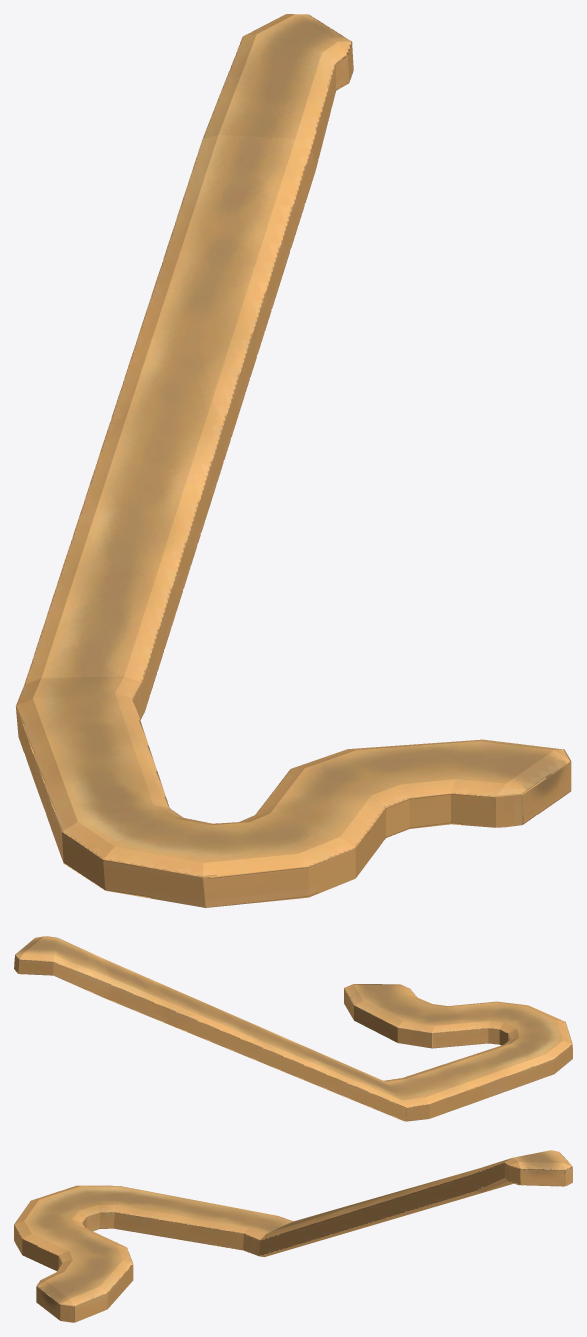
Rendered from TopPath.fbx.
3 views of the same model, one above another, from view 1: azimuth 30°, elevation 25°; view 2: azimuth 150°, elevation 25°; view 3: azimuth 270°, elevation 25° (orthographic). The views are drawn at different scales.
Parts seen in each view (by area): view 1: Cube.001; view 2: Cube.001; view 3: Cube.001.
Part boxes in pixels (left/top/right/bottom): Cube.001: left=15, top=14, right=571, bottom=907; Cube.001: left=14, top=936, right=572, bottom=1121; Cube.001: left=14, top=1150, right=572, bottom=1322.
Bounding box in the file's own units: 1916 × 1108 × 2597.
